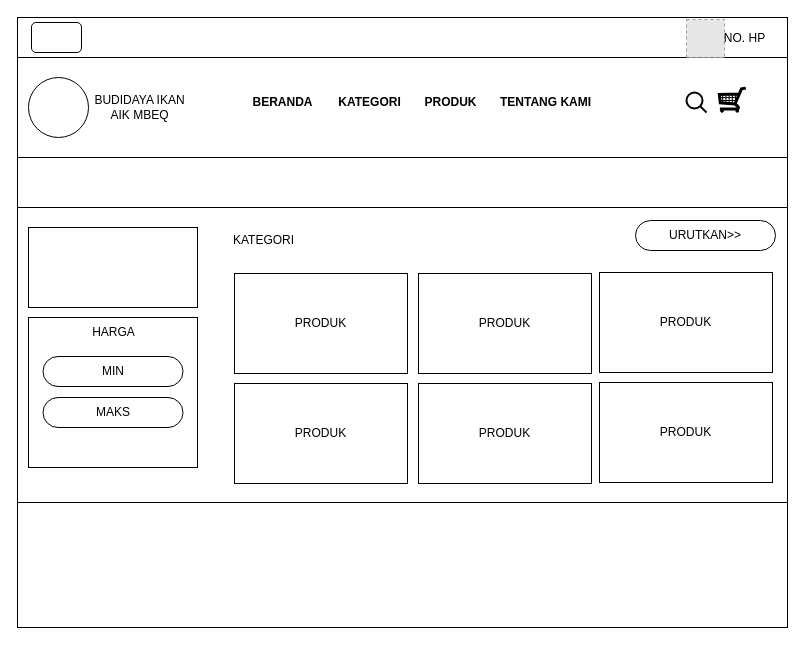
Some shapes in this 805 by 645 pixel diagram are drawn without their labels. Grey dashed boxes stand in for pictures. Here are the shapes that lost their labels. From the top down, the centre of each, then its label:
At pixel 56 37: "INFO".
At pixel 58 107: "LOGO".
At pixel 402 182: "HOME/KATEGORI".
At pixel 113 267: "PROMO".
At pixel 402 565: "FOOTER".
